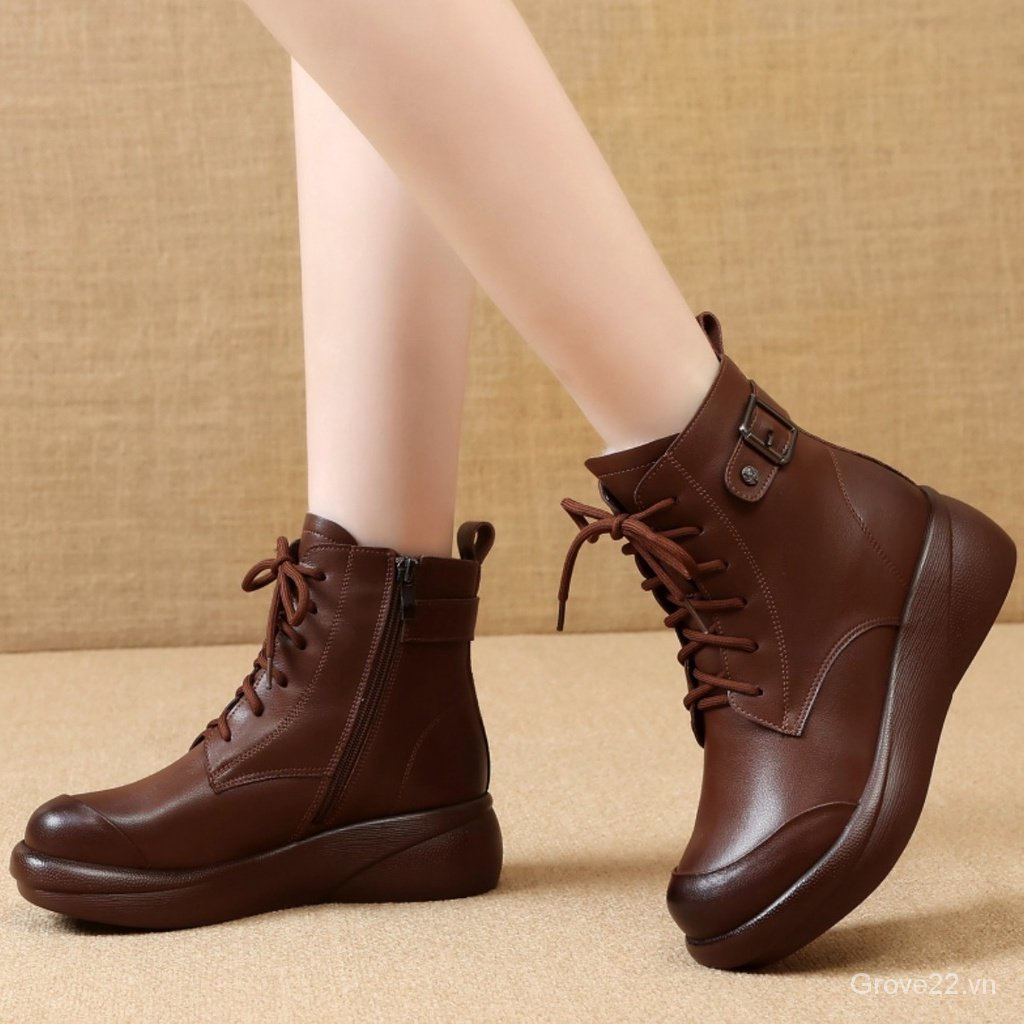boots: (549, 316, 1016, 966), (10, 513, 507, 938)
